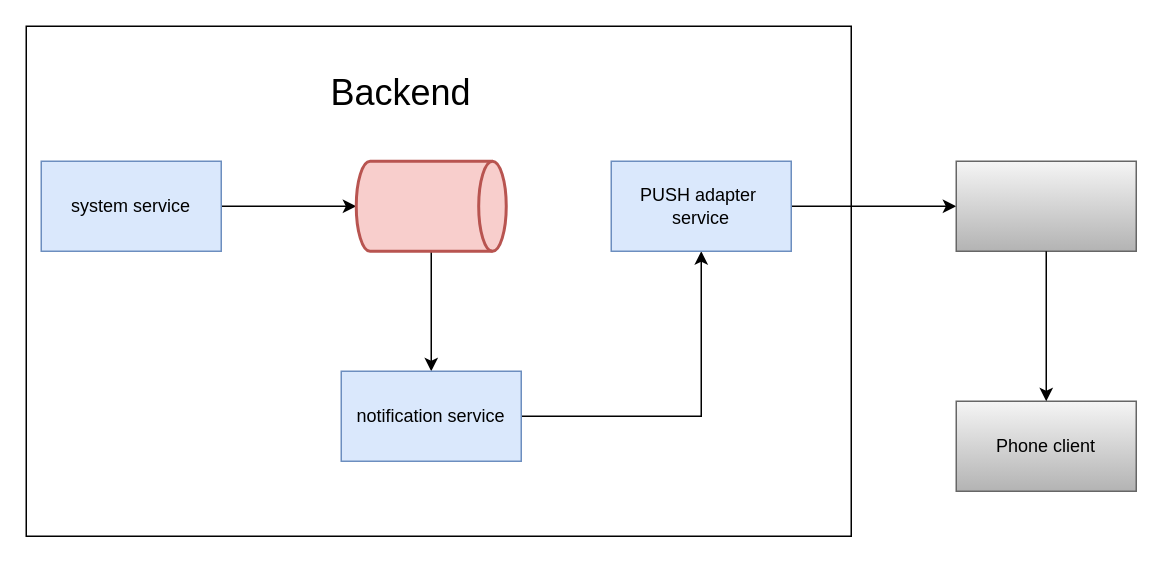
This 1163x563 diagram has some shape labels left out. Here are the shapes that lost their labels. From the top down, the box of each, then its label:
(354, 159, 507, 252): kafka
(955, 160, 1136, 251): PUSH service
